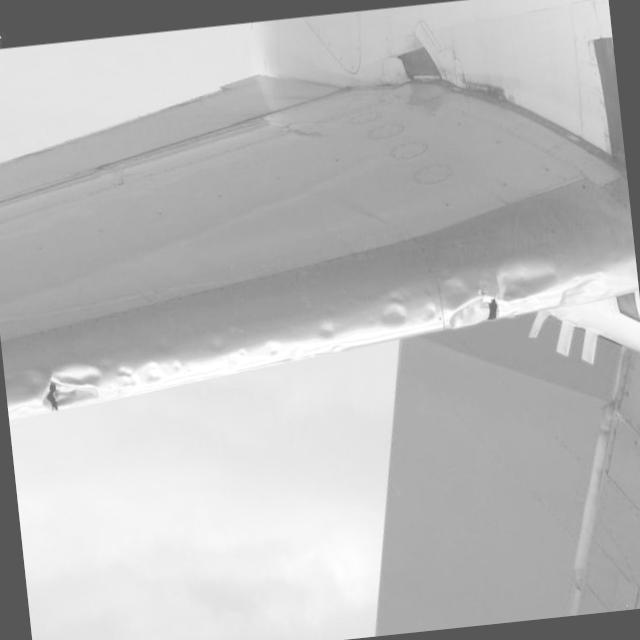dent: (29, 252, 615, 414)
